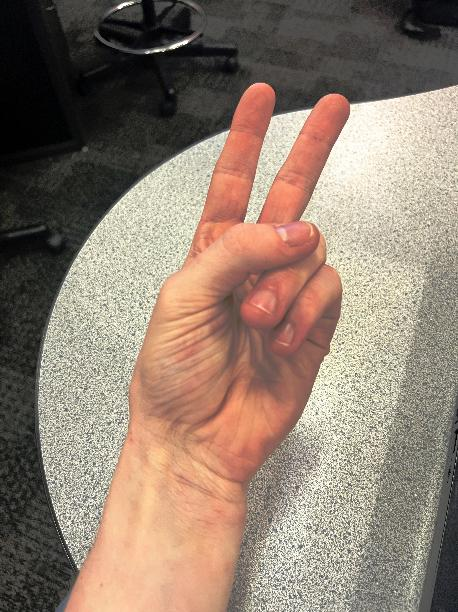Scissors: (105, 50, 375, 491)
